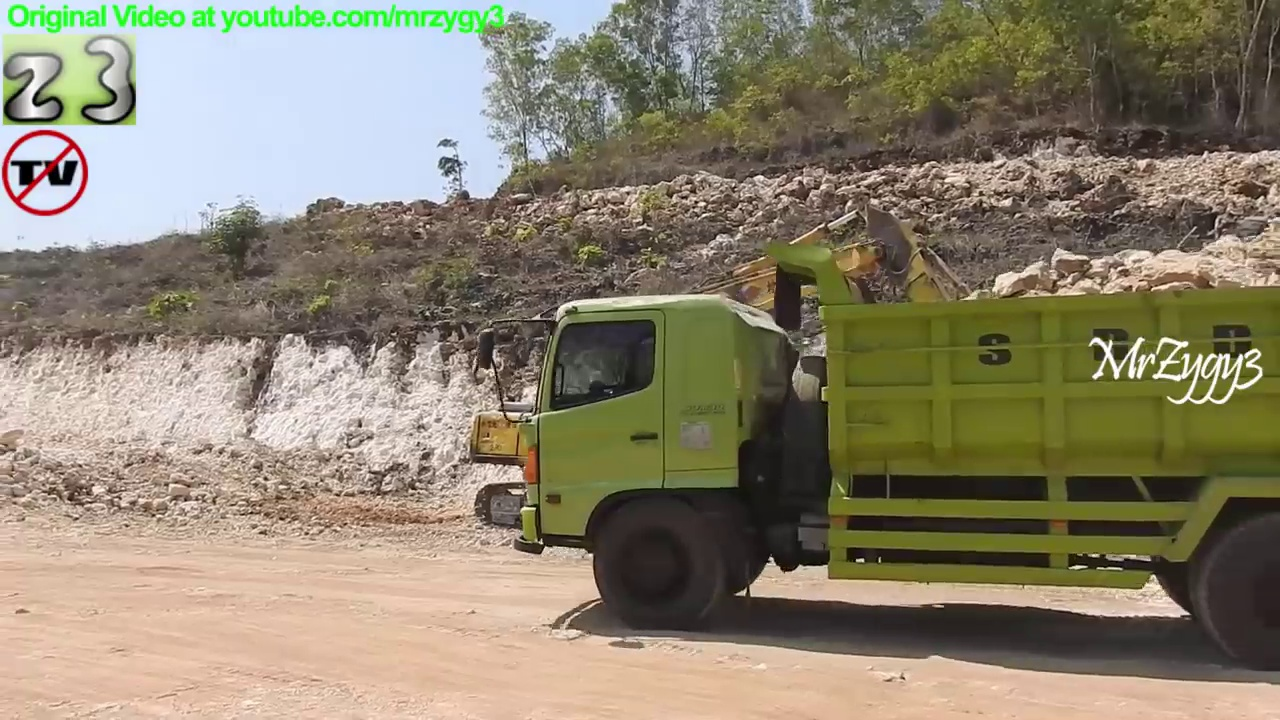excavator: (461, 190, 1030, 552)
truck: (457, 237, 1280, 675)
